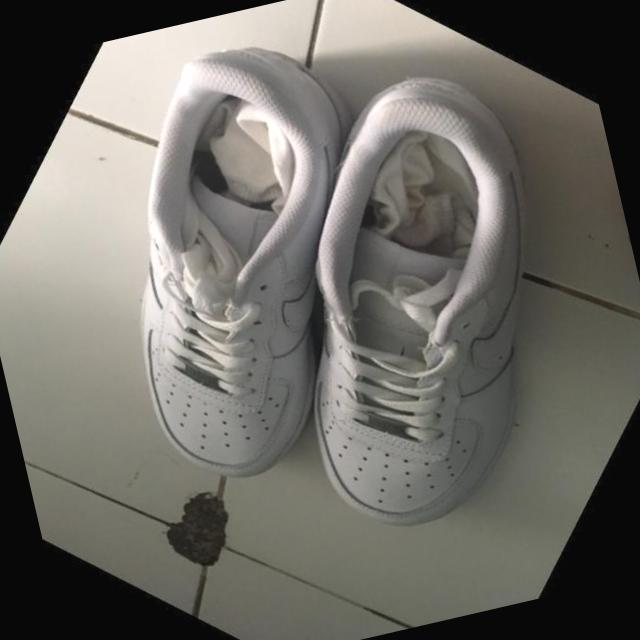nike_fake_airforce: (118, 3, 640, 616), (0, 0, 531, 554)
